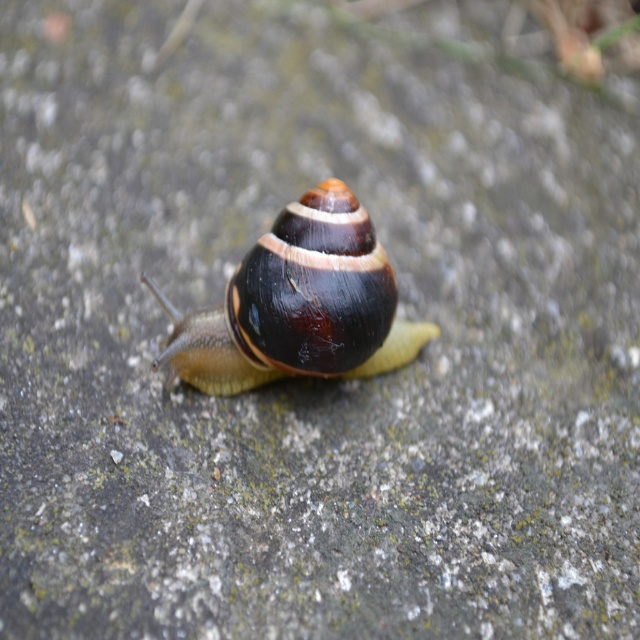Snail: (138, 171, 440, 403)
